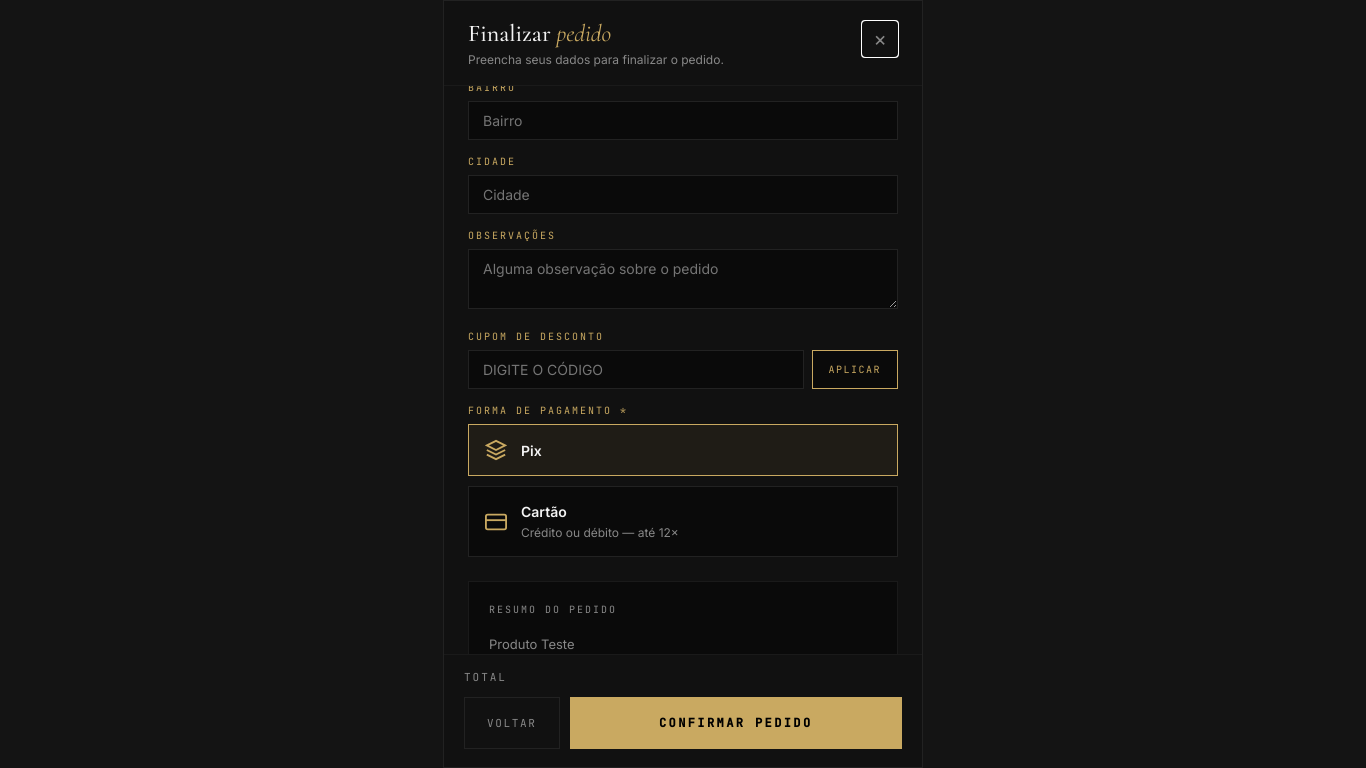
Test: CheckoutModal › mantem funcionando os cupons que a loja ja aceitava
The width and height of the screenshot is (1366, 768).
(page scrolled)
Type "ALPHA10" into the field labelled "Cupom de desconto".
click(636, 370); type("ALPHA10")  # box left=468, top=350, right=804, bottom=389
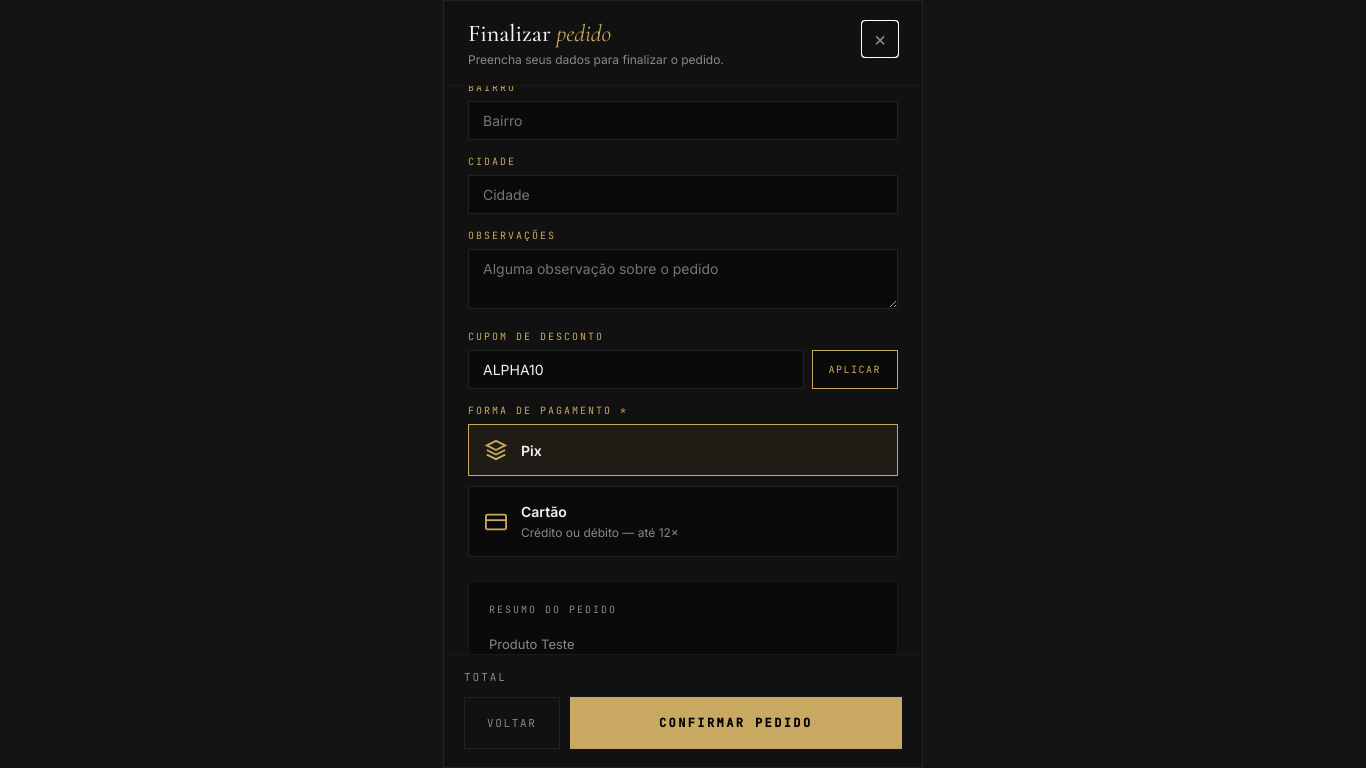
Click the button "APLICAR".
click(855, 370)  # box left=812, top=350, right=898, bottom=389
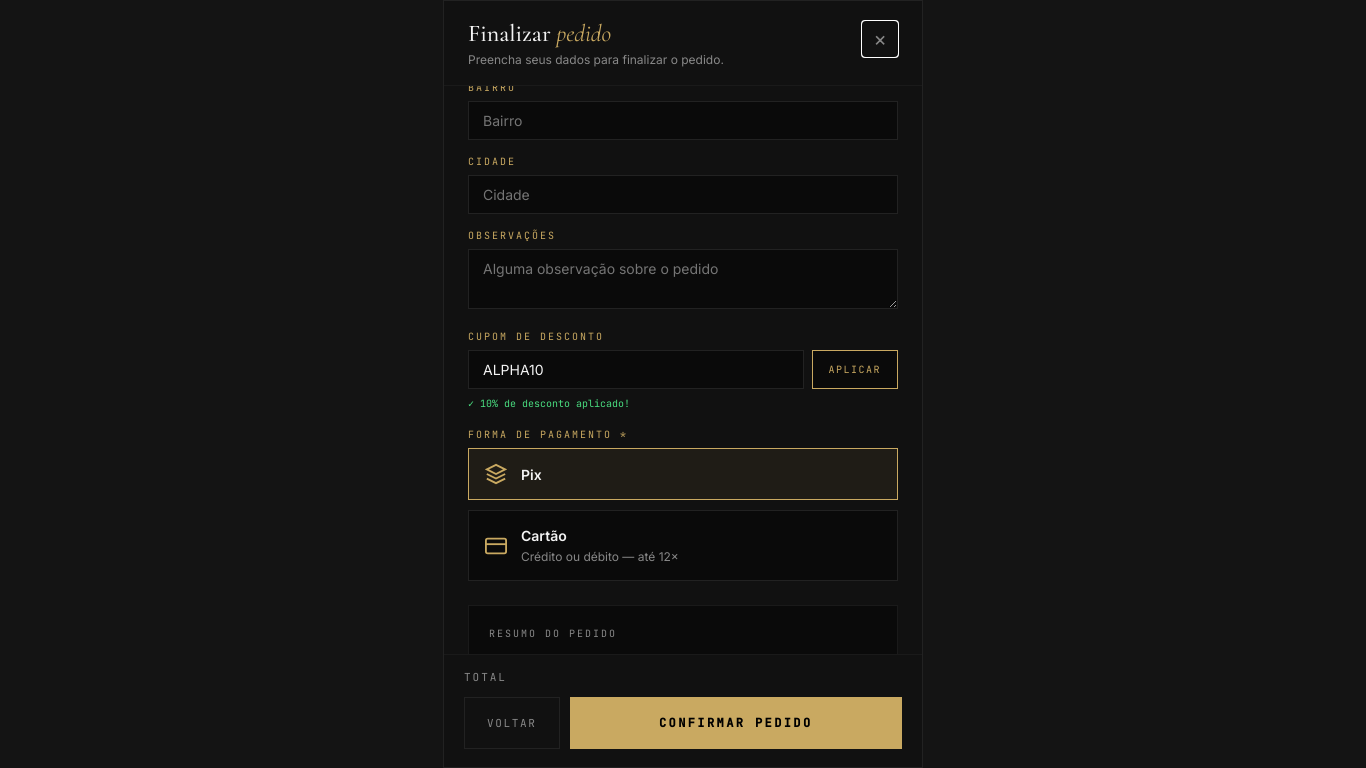
Expected: the text "✓ 10% de desconto aplicado!" is shown, left=468, top=397, right=630, bottom=410
Replace the text in the field labelled "Cupom de desconto" with "BEMVINDO" at (636, 370), box left=468, top=350, right=804, bottom=389
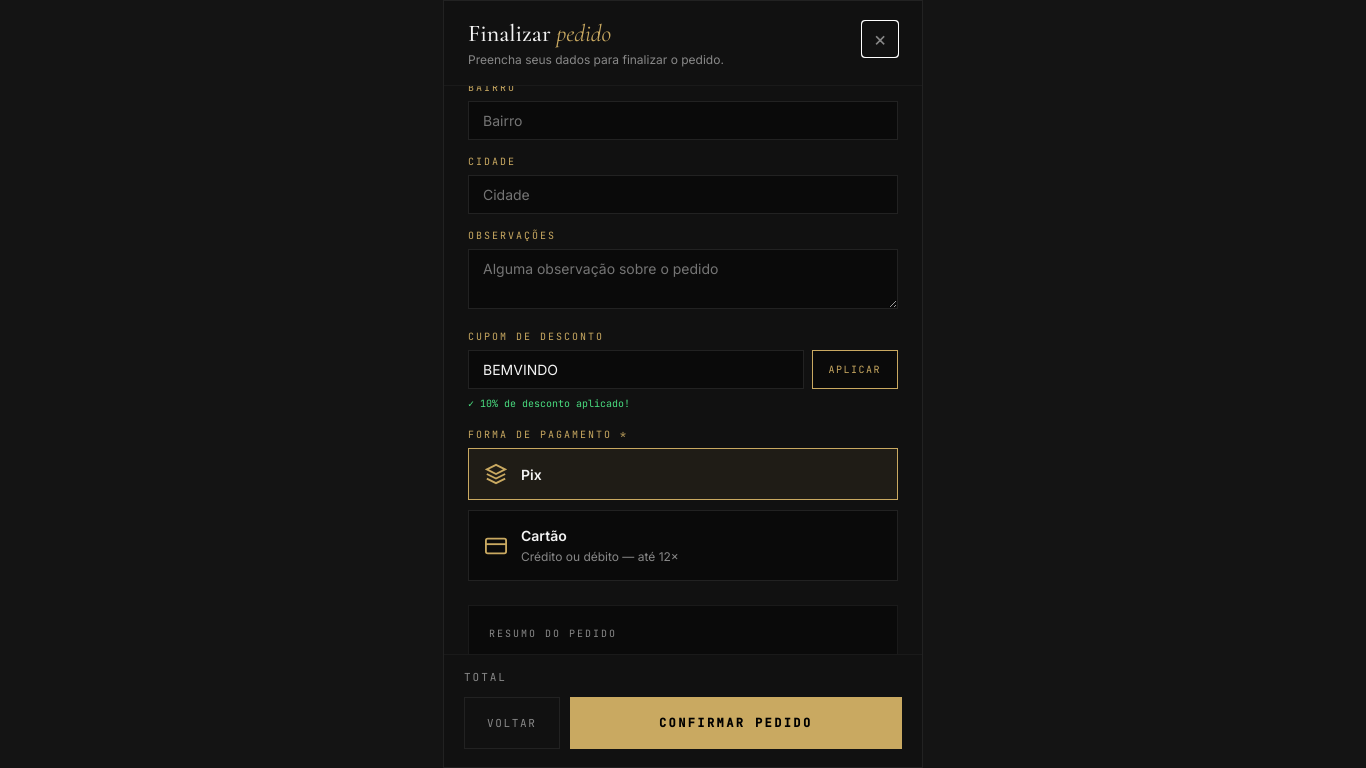
Click the button "APLICAR".
click(855, 370)  # box left=812, top=350, right=898, bottom=389
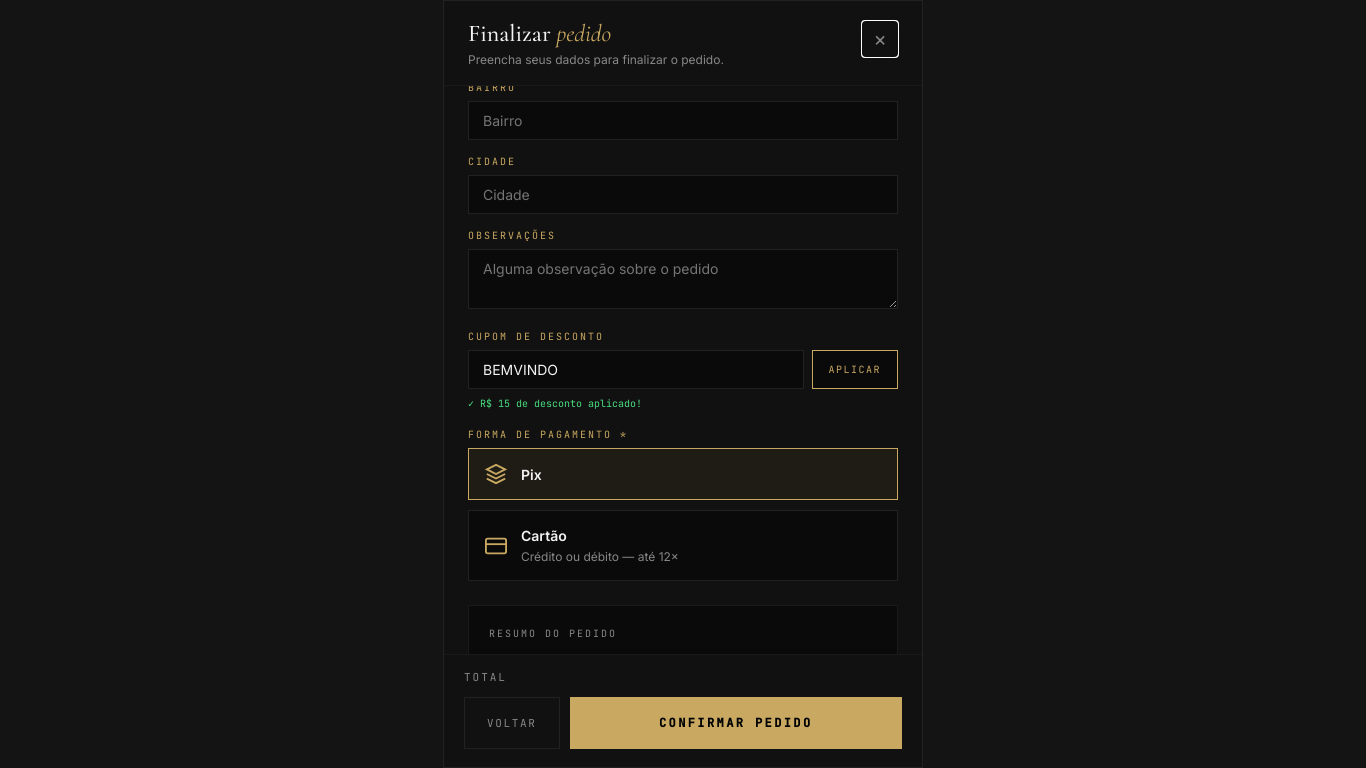
Expected: the text "✓ R$ 15 de desconto aplicado!" is shown, left=468, top=397, right=642, bottom=410
Replace the text in the field labelled "Cupom de desconto" with "FRETEGRATIS" at (636, 370), box left=468, top=350, right=804, bottom=389
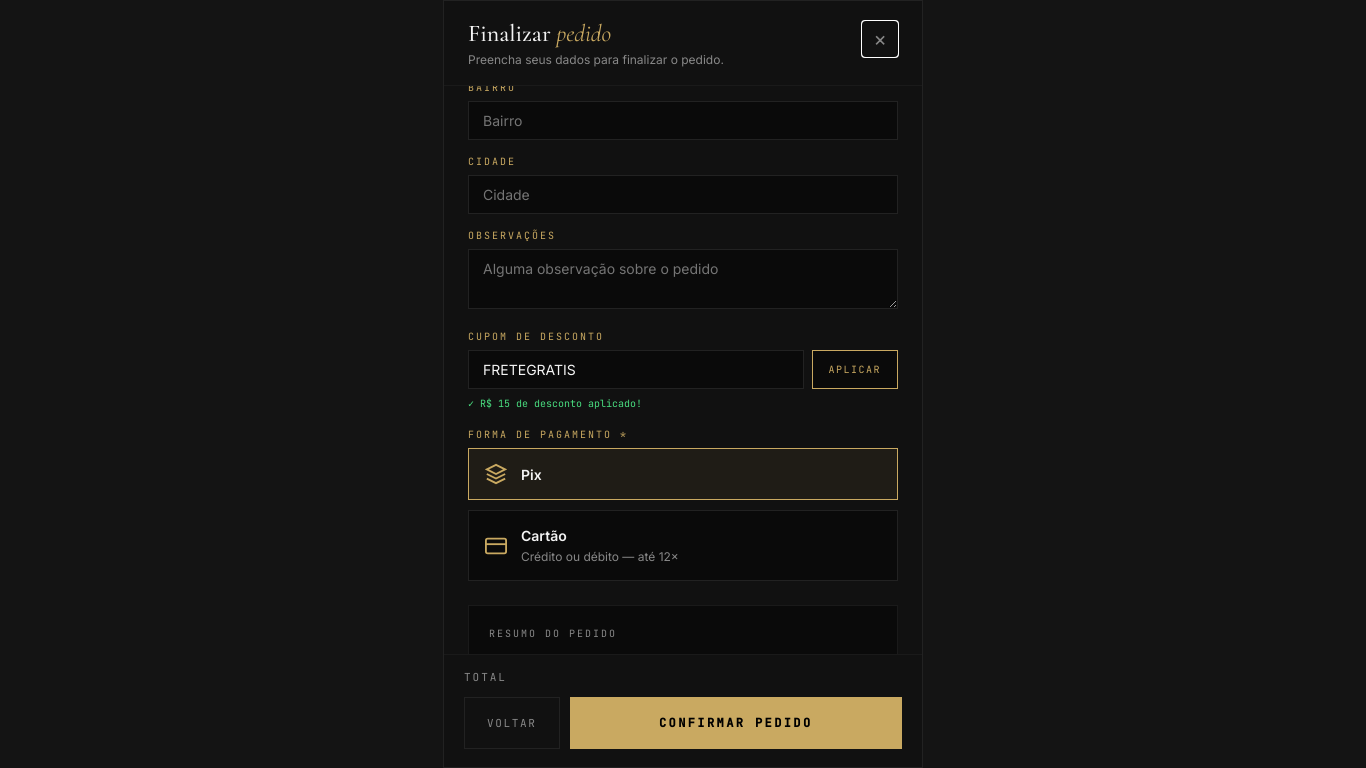
Click the button "APLICAR".
click(855, 370)  # box left=812, top=350, right=898, bottom=389
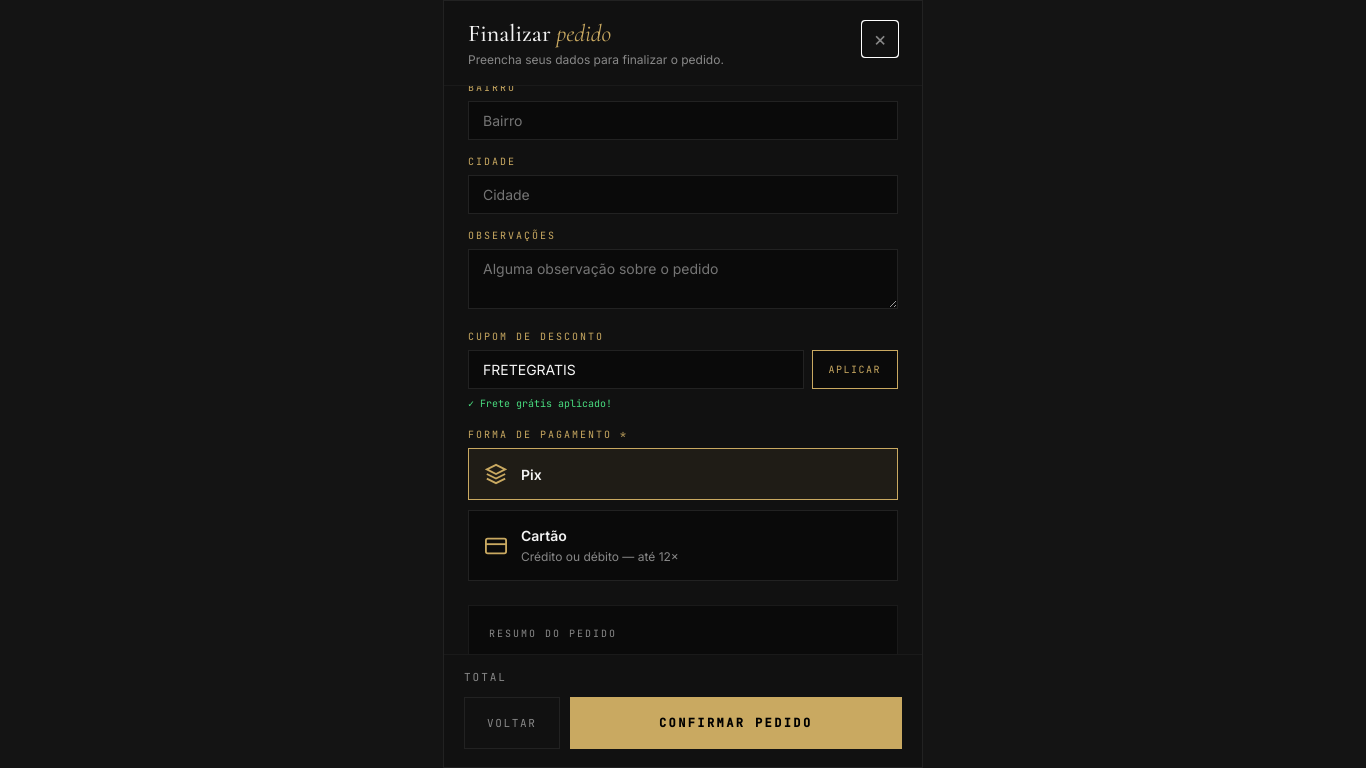
Expected: the text "✓ Frete grátis aplicado!" is shown, left=468, top=397, right=612, bottom=410
